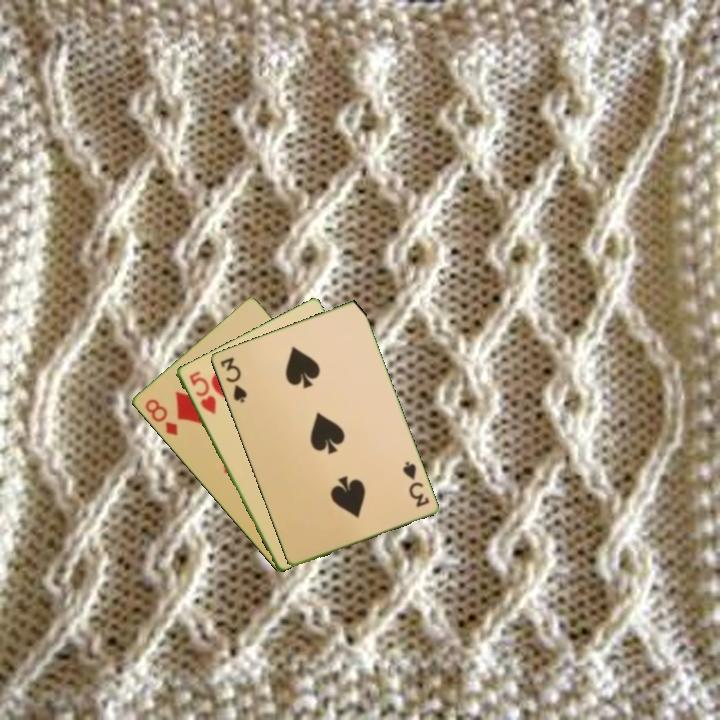3s: (216, 353, 250, 405), (399, 457, 432, 510)
5h: (185, 367, 219, 417)
8d: (141, 395, 181, 438)
